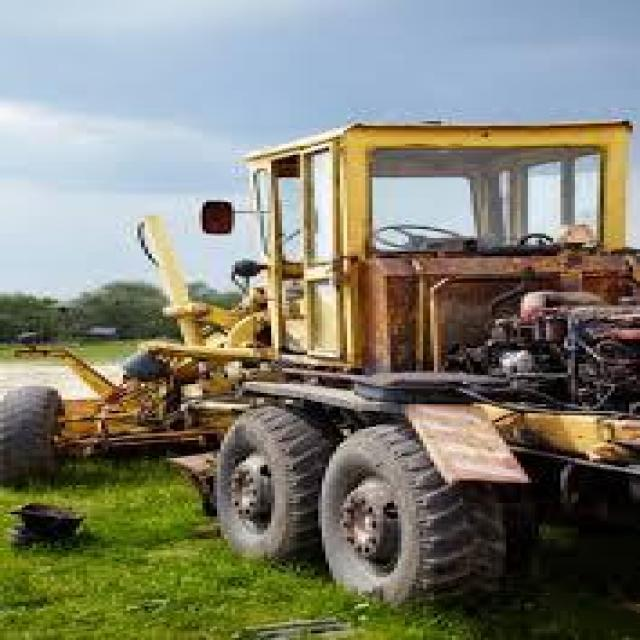Grader: (18, 103, 636, 595)
